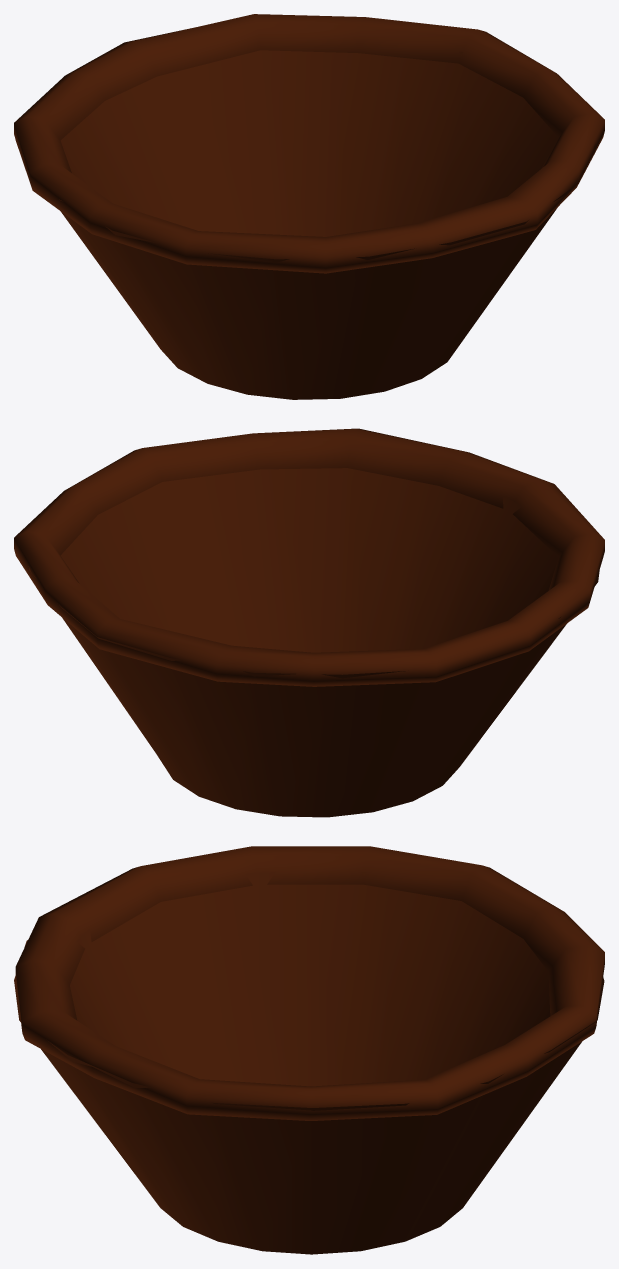
File: basket_orange.glb
3 renders of one model, top to bottom at view 1: azimuth 30°, elevation 25°; view 2: azimuth 150°, elevation 25°; view 3: azimuth 270°, elevation 25°, orthographic. The views are drawn at different scales.
Parts seen in each view (by area): view 1: basket_hp:base_2; view 2: basket_hp:base_2; view 3: basket_hp:base_2.
Boxes of the visible parts, x1=… form: basket_hp:base_2: x1=14, y1=14, x2=604, y2=399; basket_hp:base_2: x1=14, y1=428, x2=604, y2=817; basket_hp:base_2: x1=14, y1=846, x2=604, y2=1254.
Bounding box in the file's own units: 9.44 × 3.78 × 9.22.
